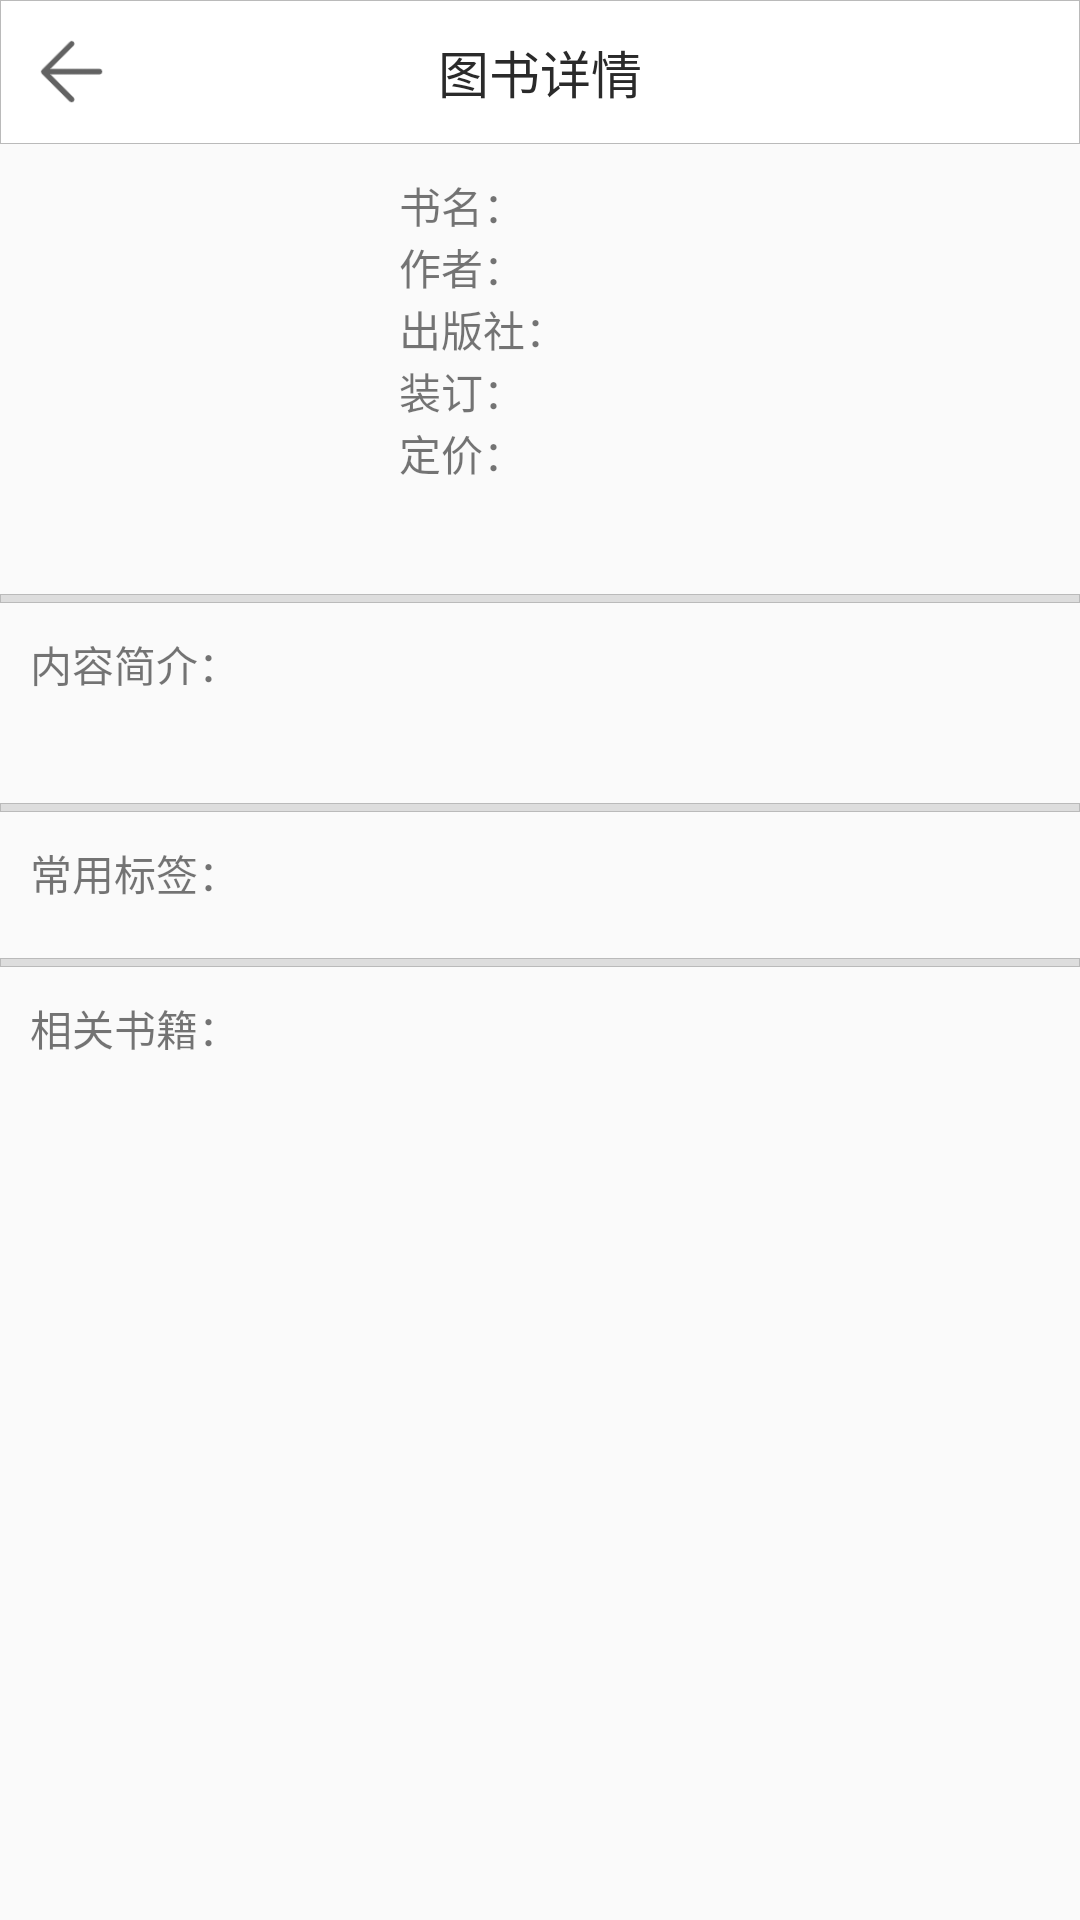

Locate icon controls on the screen. Image size 1080 × 1920, boxes as (x1, y1, x2, y2).
back nor: (41, 41, 103, 103)
